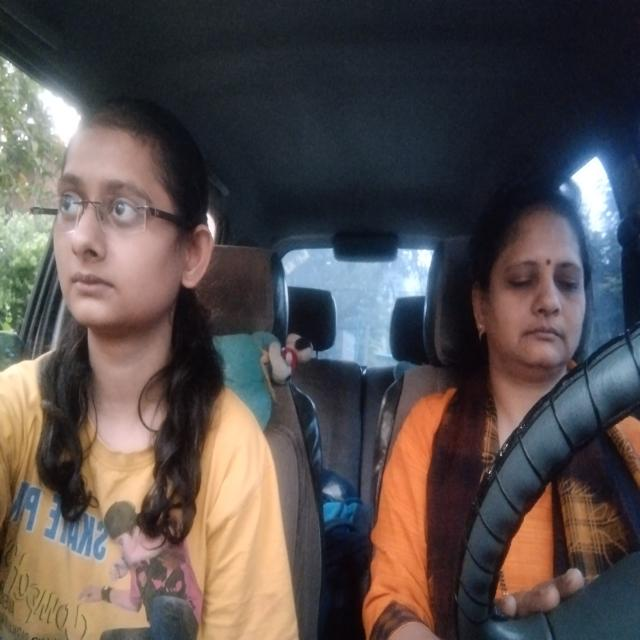drowsy: (458, 185, 591, 398)
person: (39, 95, 217, 348)
